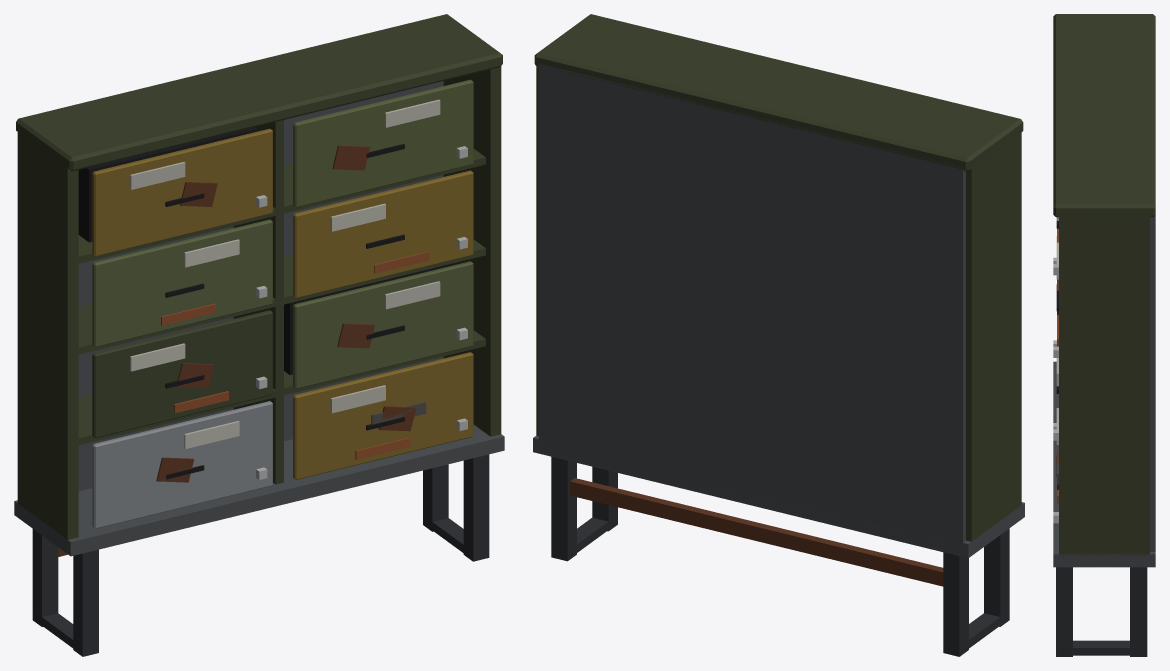
The model's file is furn_mail_lockers.fbx.
3 views of the same model, side by side, from view 1: azimuth 30°, elevation 25°; view 2: azimuth 150°, elevation 25°; view 3: azimuth 270°, elevation 25° (orthographic). The views are drawn at different scales.
Parts seen in each view (by area): view 1: furn_mail_lockers, Door_2, Door_1; view 2: furn_mail_lockers; view 3: furn_mail_lockers, Door_2.
Part boxes in pixels (x1=…): furn_mail_lockers: x1=14, y1=14, x2=504, y2=656; Door_2: x1=293, y1=261, x2=473, y2=389; Door_1: x1=92, y1=128, x2=272, y2=256; furn_mail_lockers: x1=533, y1=14, x2=1024, y2=656; furn_mail_lockers: x1=1053, y1=14, x2=1155, y2=656; Door_2: x1=1053, y1=358, x2=1058, y2=440.
Bounding box in the file's own units: 1.6 × 1.77 × 0.36.
